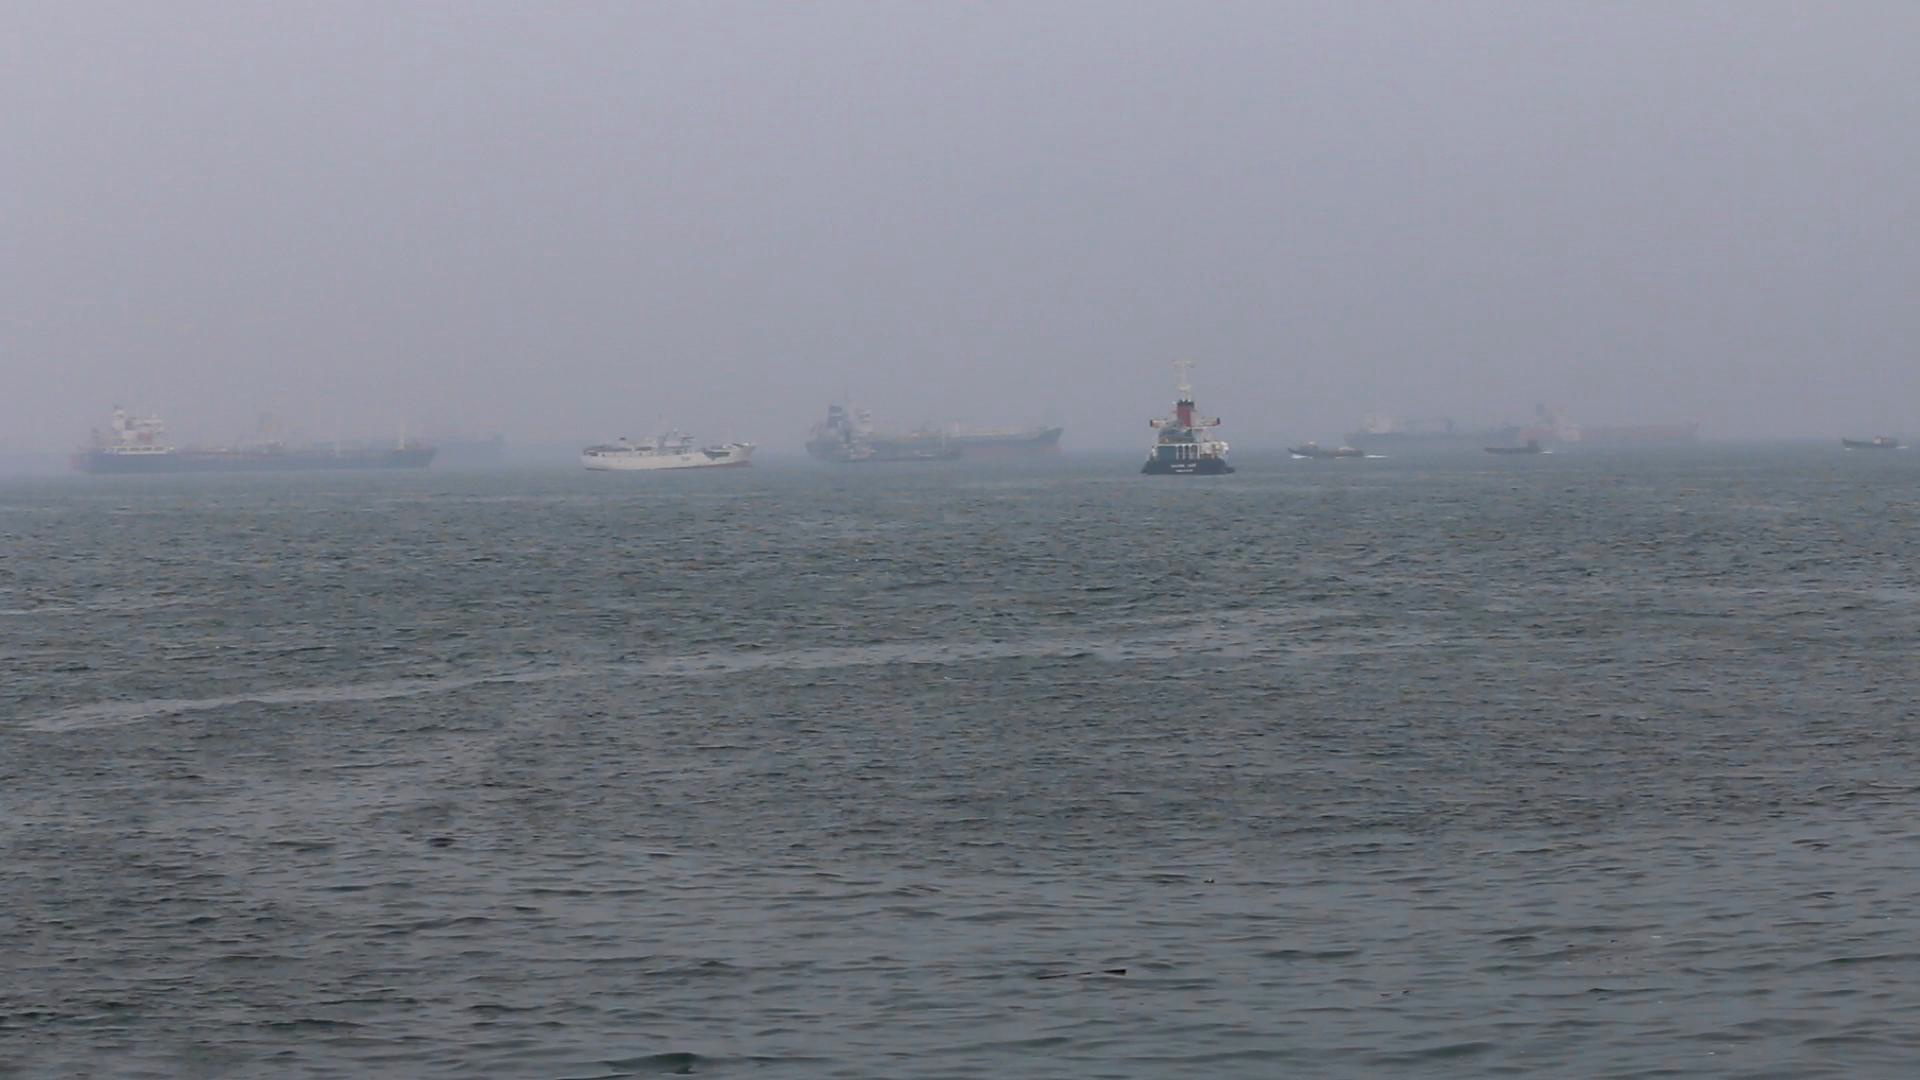Container Ship: (76, 402, 439, 471), (810, 406, 1071, 467), (1146, 360, 1236, 481), (579, 429, 764, 475), (1344, 415, 1551, 446)
